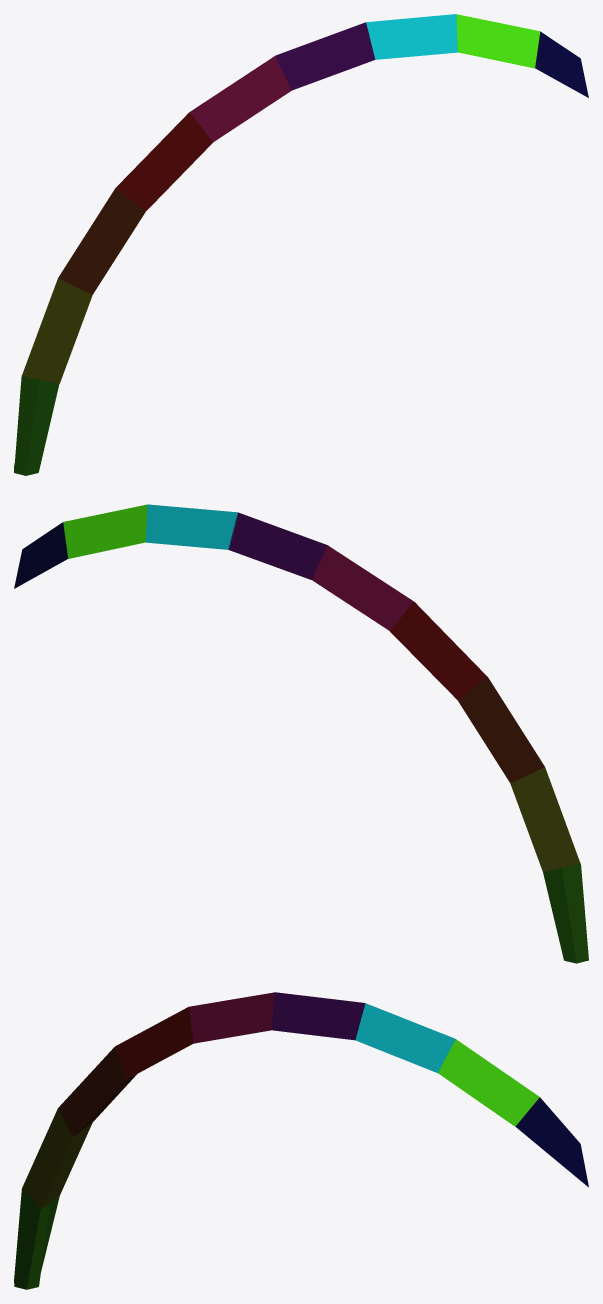
File: NeedleCollision.OBJ
3 views of the same model, one above another, from view 1: azimuth 30°, elevation 25°; view 2: azimuth 150°, elevation 25°; view 3: azimuth 330°, elevation 25° (orthographic).
Visible parts, largest first — view 1: NeedleCollision_/ambf/env/NeedleCollision_Cylinder.006; view 2: NeedleCollision_/ambf/env/NeedleCollision_Cylinder.006; view 3: NeedleCollision_/ambf/env/NeedleCollision_Cylinder.006.
Boxes of the visible parts, left/top/right/bottom form: NeedleCollision_/ambf/env/NeedleCollision_Cylinder.006: left=14, top=14, right=588, bottom=475; NeedleCollision_/ambf/env/NeedleCollision_Cylinder.006: left=14, top=504, right=588, bottom=963; NeedleCollision_/ambf/env/NeedleCollision_Cylinder.006: left=14, top=992, right=588, bottom=1289.
Bounding box in the file's own units: 0.0166 × 0.01 × 0.00102.
